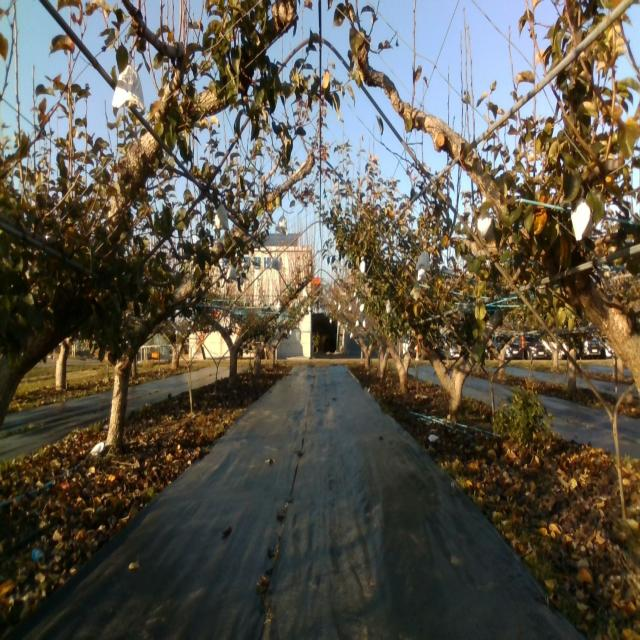pearbags: (112, 64, 145, 109), (570, 196, 594, 241), (477, 209, 494, 238), (211, 206, 229, 232), (275, 211, 288, 235), (416, 251, 430, 271)
